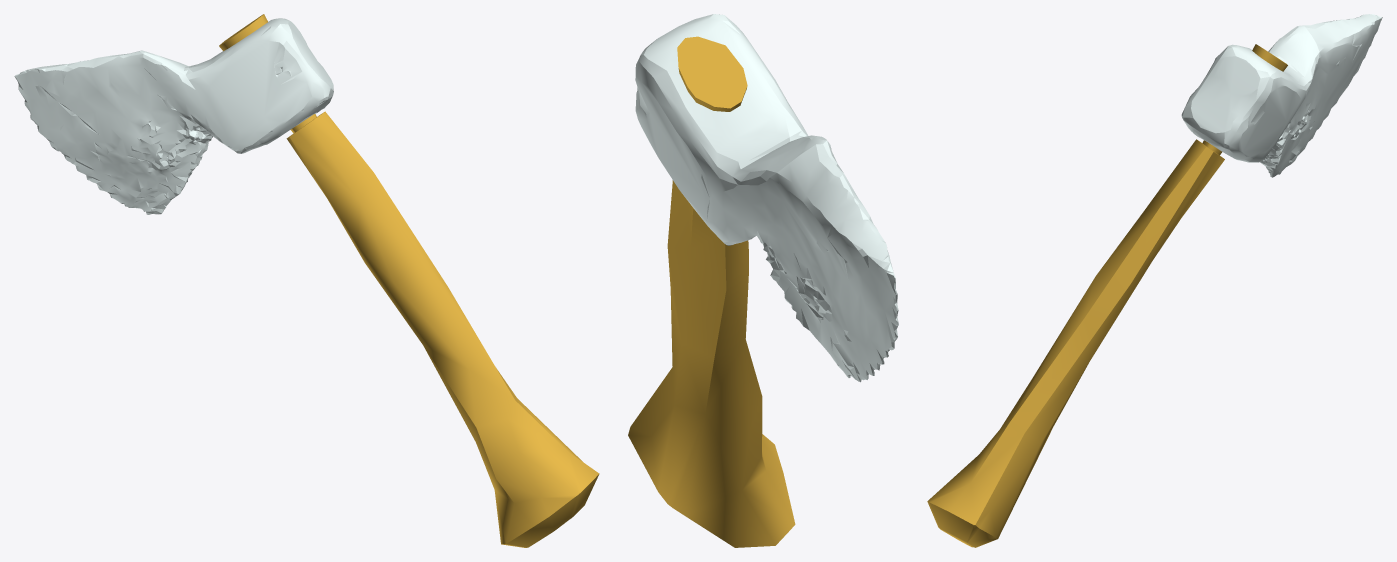
Rendered from axe-iron-36.glb.
3 renders of one model, left to right at view 1: azimuth 30°, elevation 25°; view 2: azimuth 150°, elevation 25°; view 3: azimuth 270°, elevation 25°, orthographic. The views are drawn at different scales.
Parts seen in each view (by area): view 1: iron-axe-head, iron-axe; view 2: iron-axe-head, iron-axe; view 3: iron-axe, iron-axe-head.
Part boxes in pixels (bbox=[...]): iron-axe-head: bbox=[14, 18, 333, 214]; iron-axe: bbox=[219, 14, 599, 547]; iron-axe-head: bbox=[635, 14, 898, 382]; iron-axe: bbox=[628, 36, 795, 547]; iron-axe: bbox=[927, 44, 1287, 547]; iron-axe-head: bbox=[1181, 14, 1382, 177].
Size of the model in its own units: 0.7425 by 0.8646 by 0.8012.
